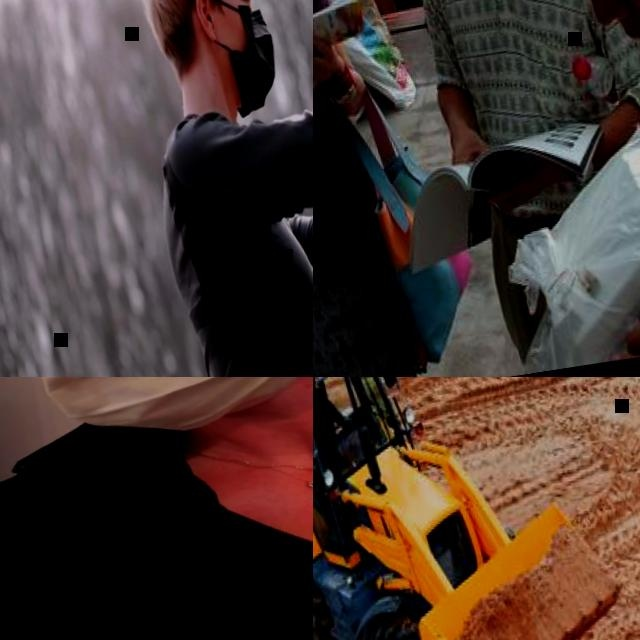Mask: (16, 377, 313, 451), (219, 0, 283, 115)
NO-Mask: (591, 0, 640, 79)
NO-Safety Vest: (0, 377, 313, 640), (411, 0, 632, 225), (145, 112, 313, 377), (313, 0, 381, 271)
Person: (377, 0, 640, 377), (0, 377, 313, 640), (104, 0, 313, 377), (496, 0, 640, 362), (313, 0, 418, 377), (313, 384, 353, 455)
machinery: (313, 377, 640, 640)
